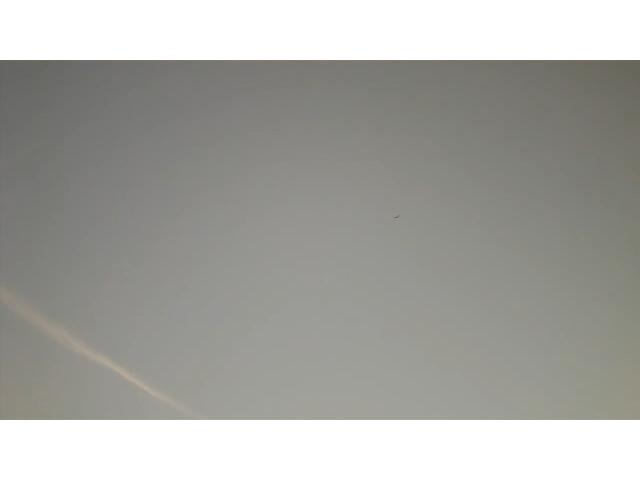Anti-Drone: (390, 212, 404, 220)
